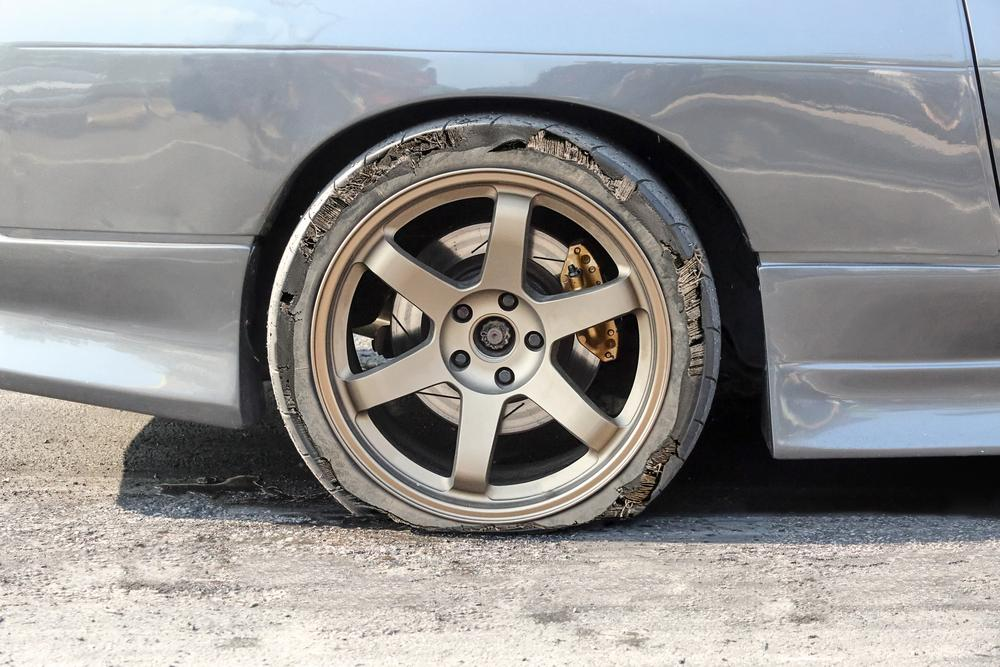tire flat: (266, 112, 722, 533)
